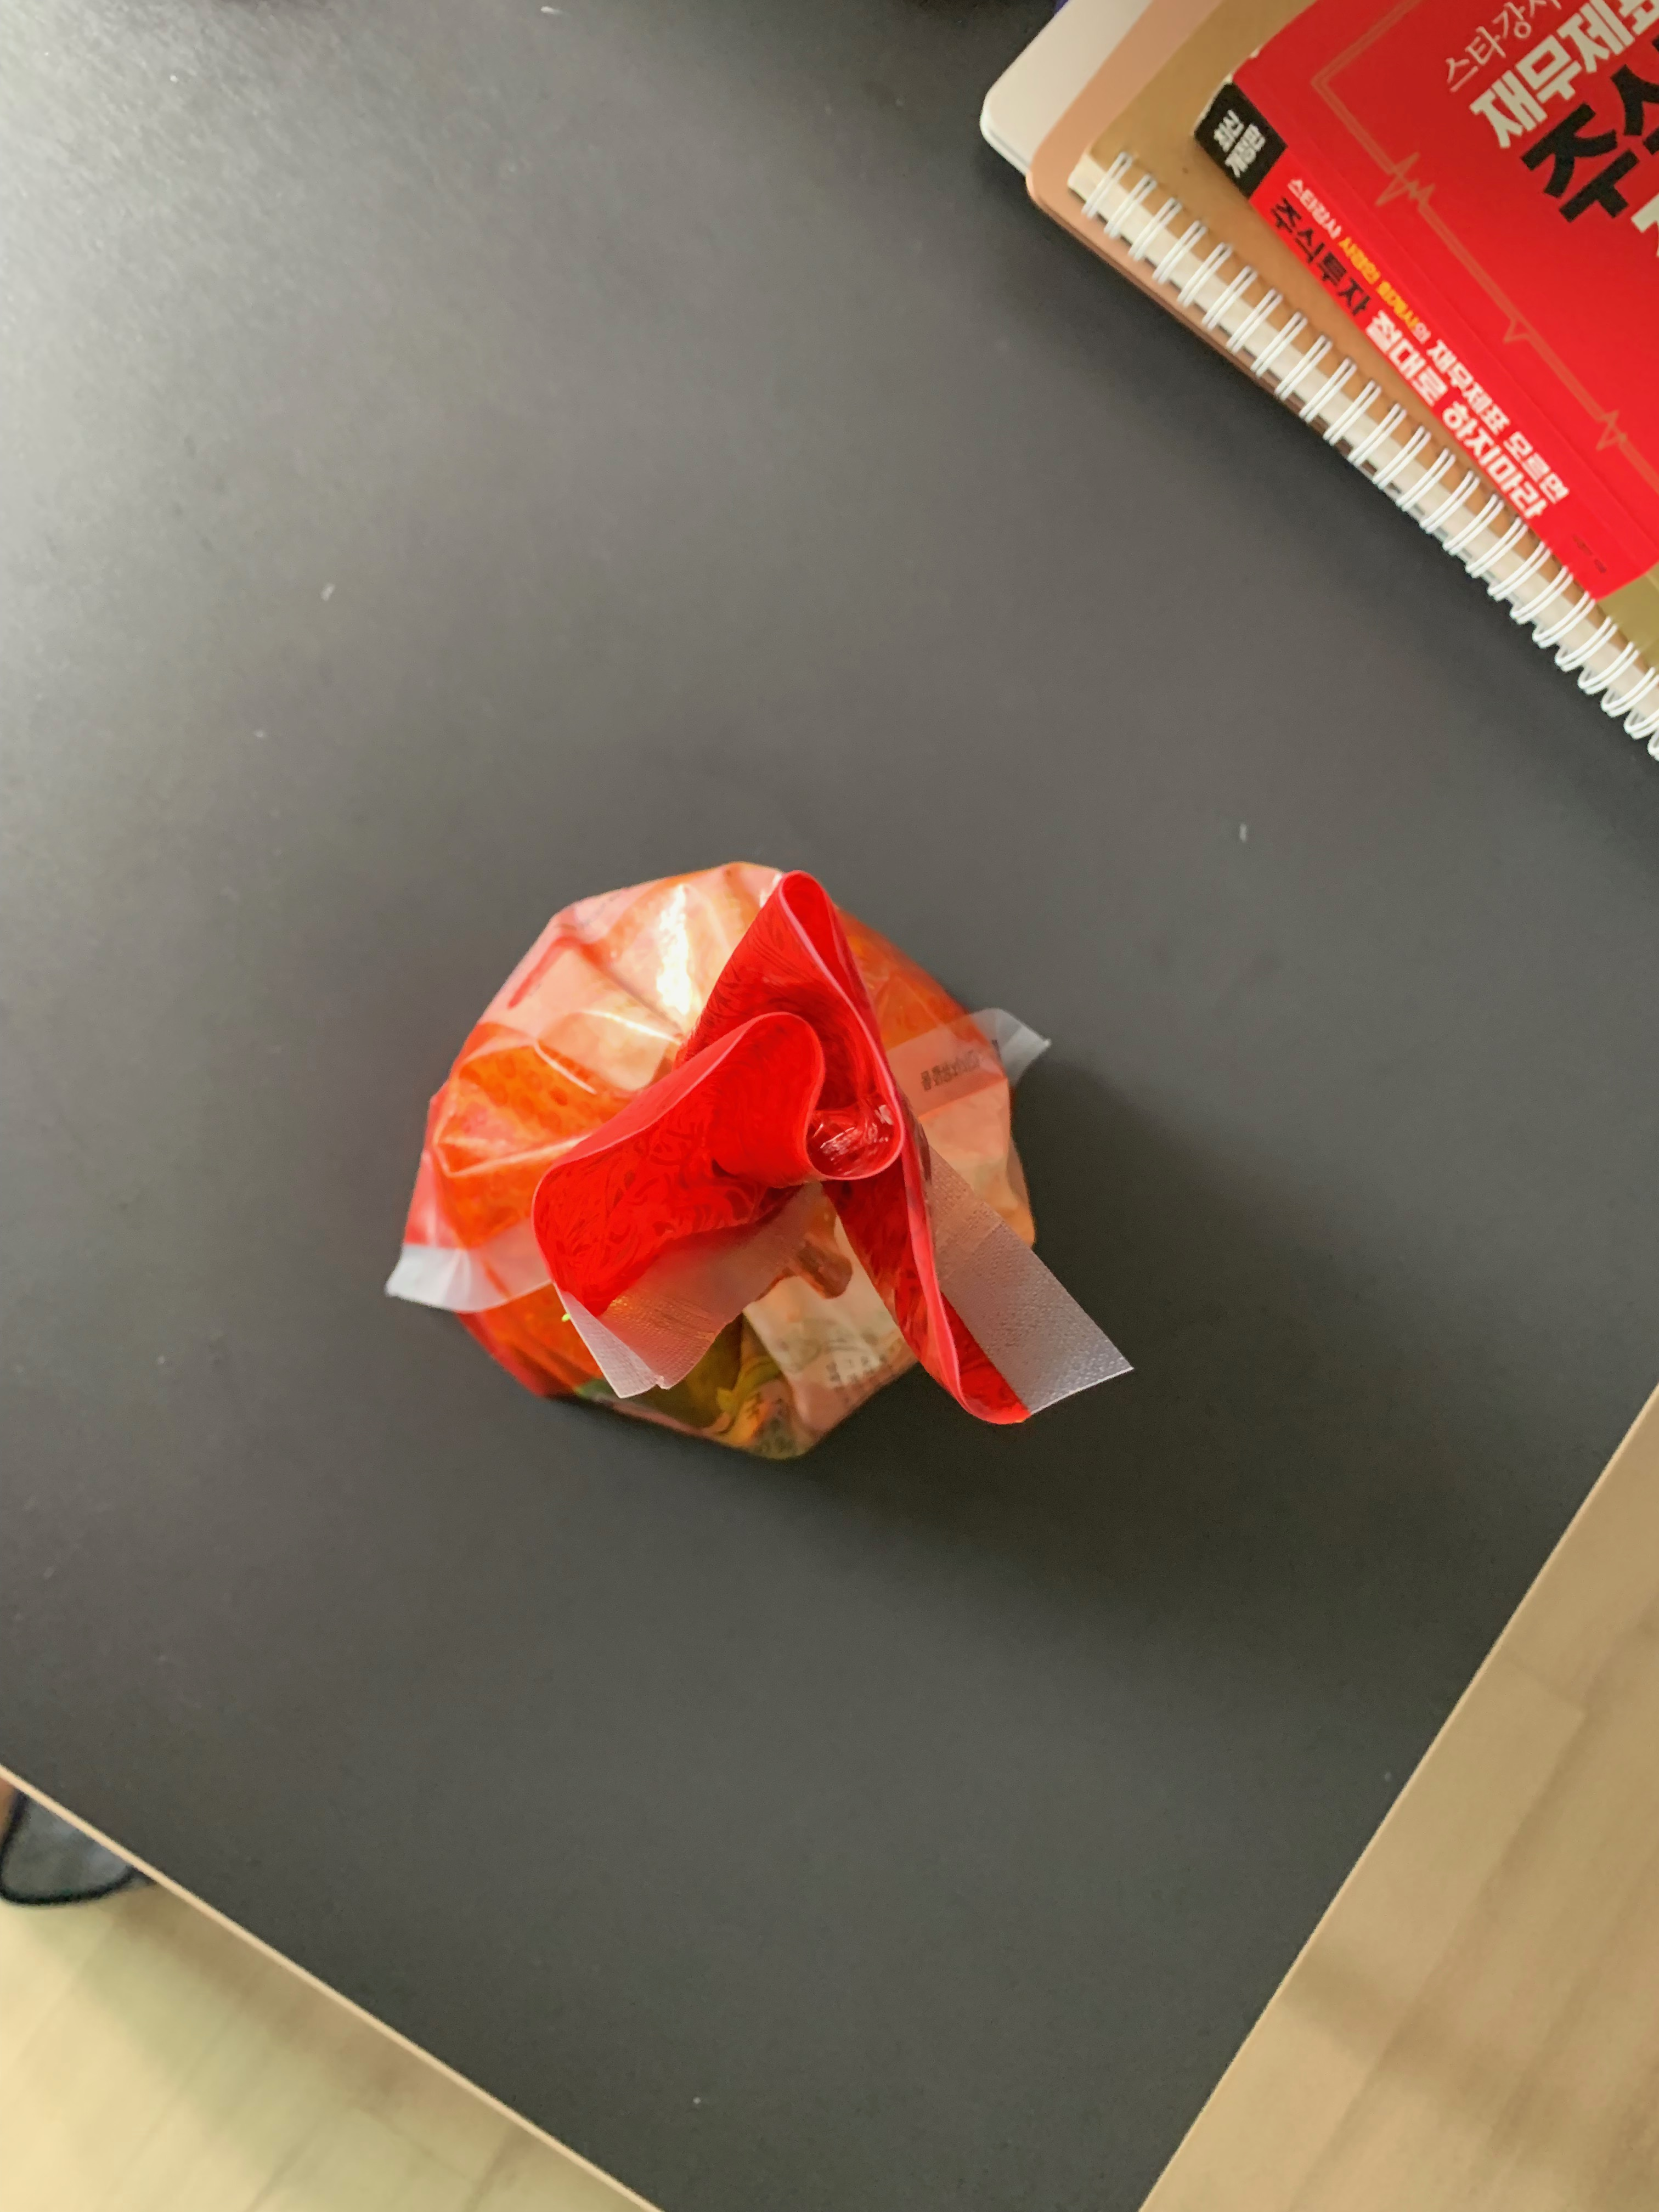kimchi: (408, 859, 1039, 1463)
